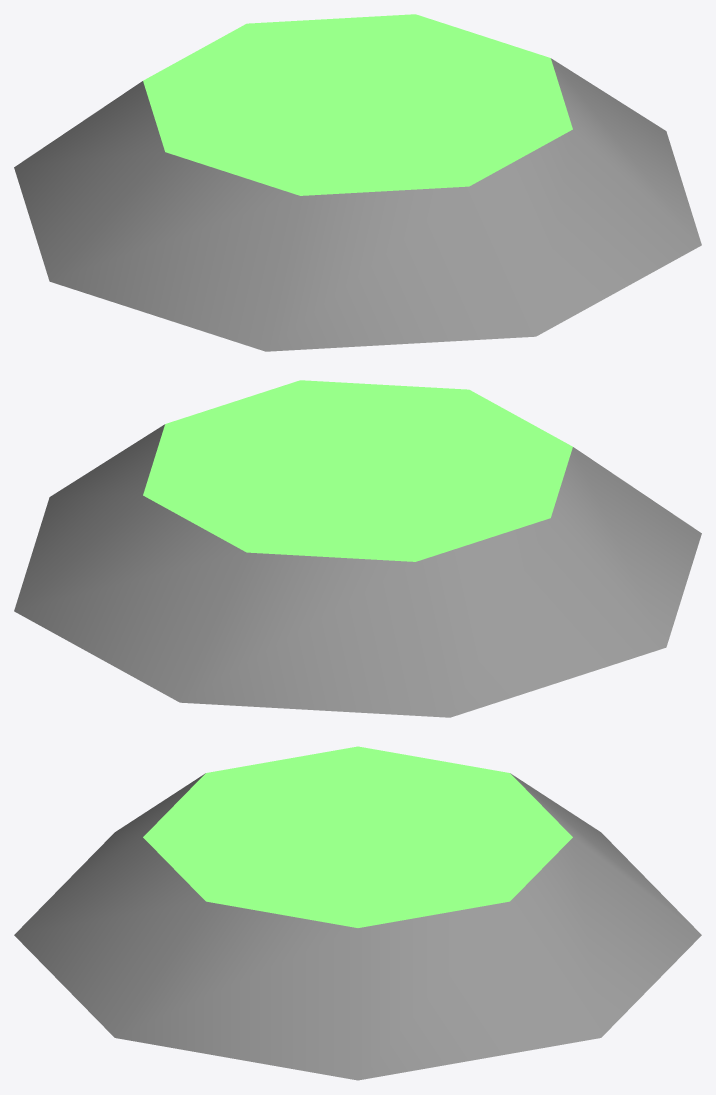
The picture shows the model from 3 angles, top to bottom: view 1: azimuth 30°, elevation 25°; view 2: azimuth 150°, elevation 25°; view 3: azimuth 270°, elevation 25°; orthographic projection. The views are drawn at different scales.
Visible parts, largest first — view 1: Cylinder001; view 2: Cylinder001; view 3: Cylinder001.
Boxes of the visible parts, x1,y1,x2,y2 form: Cylinder001: (14,14,701,351); Cylinder001: (14,380,701,717); Cylinder001: (14,746,701,1080).
Size of the model in its own units: 35.86 by 5.63 by 35.86.
